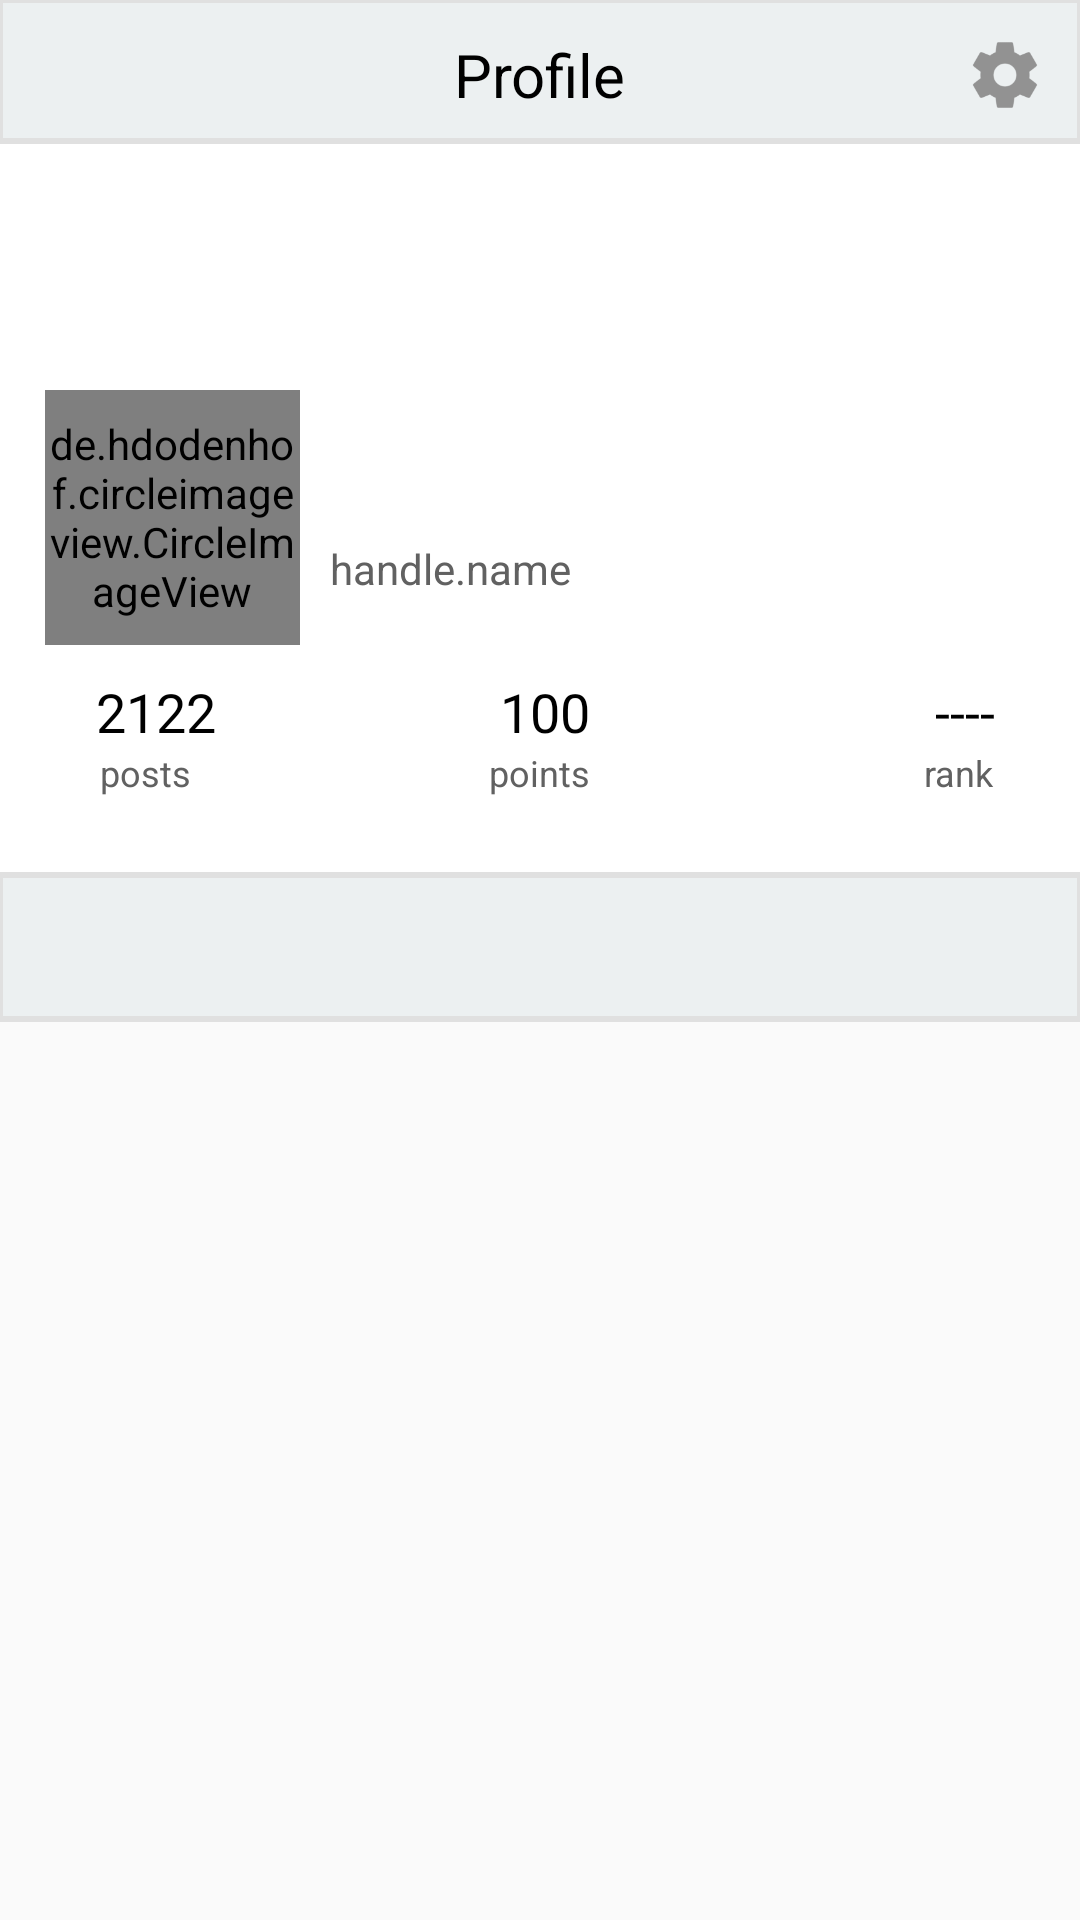

Icon bounding boxes for this 1080px×1920px phone screenshot, format region(x1, y1, x2, y2):
setting: region(973, 42, 1037, 108)
